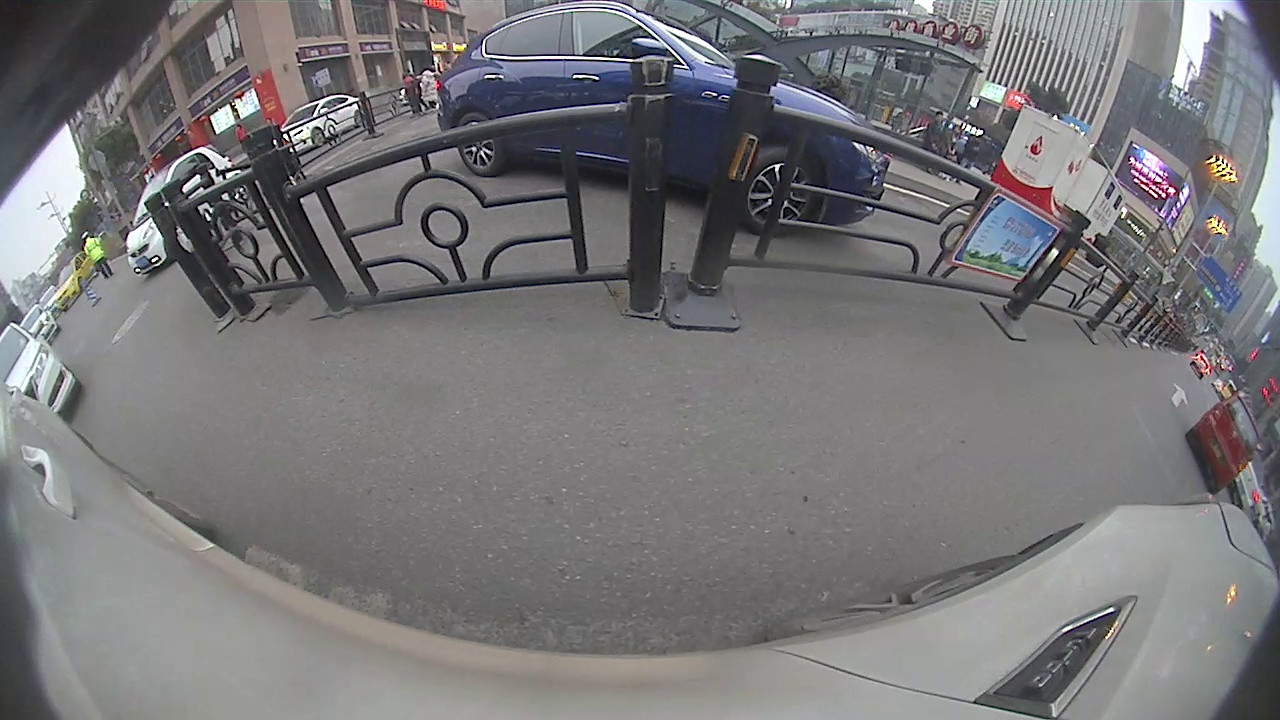car: (436, 1, 891, 237), (123, 143, 242, 278), (1184, 391, 1261, 496)
front: (743, 141, 824, 237), (309, 126, 326, 147)
person: (81, 234, 116, 283)
rear: (452, 114, 501, 176)
